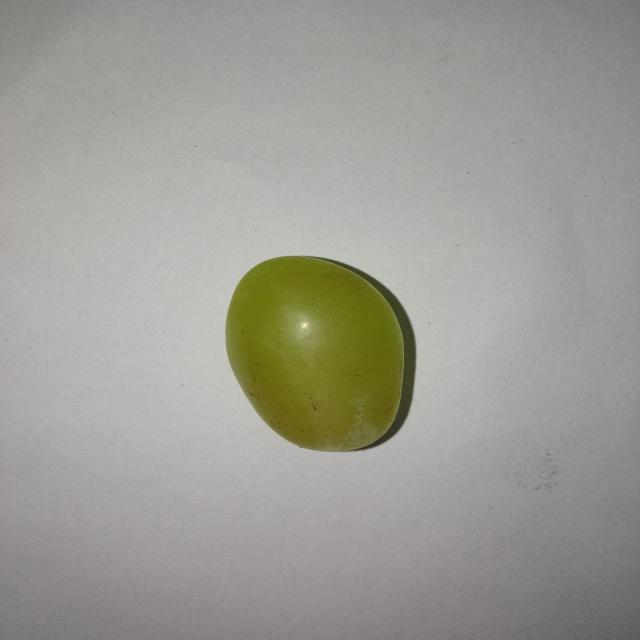fresh_grape: (223, 254, 408, 450)
